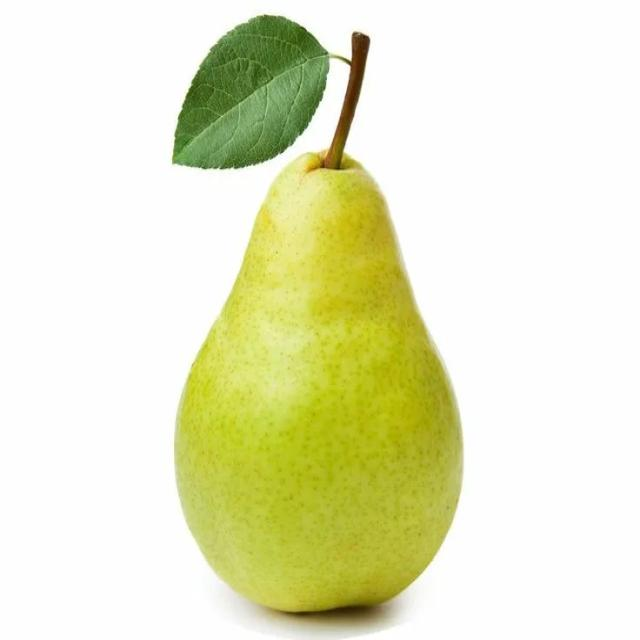pear: (170, 14, 464, 614)
